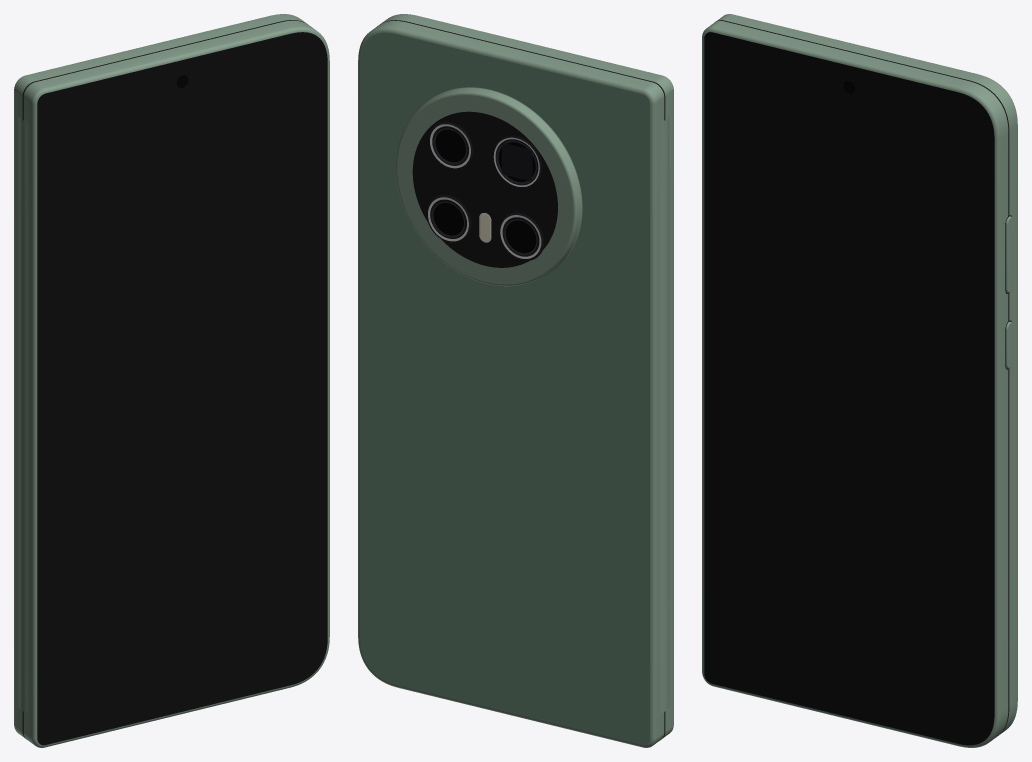
File: honor-magic-v3.glb
3 renders of one model, left to right at view 1: azimuth 30°, elevation 25°; view 2: azimuth 150°, elevation 25°; view 3: azimuth 330°, elevation 25°, orthographic.
Visible parts, largest first — view 1: body, fold; view 2: body, camera, fold; view 3: body, fold, buttons.
Part boxes in pixels (x1,y1,x2,y2): body: (14, 14, 329, 747); fold: (18, 20, 305, 739); body: (358, 14, 673, 747); camera: (396, 87, 582, 286); fold: (383, 20, 669, 739); body: (702, 14, 1017, 747); fold: (716, 20, 1009, 735); buttons: (1005, 215, 1012, 369).
Bounding box in the file's own units: 74.88 × 157 × 12.02.
